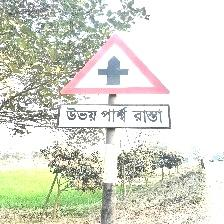Crossroad: (59, 33, 173, 131)
